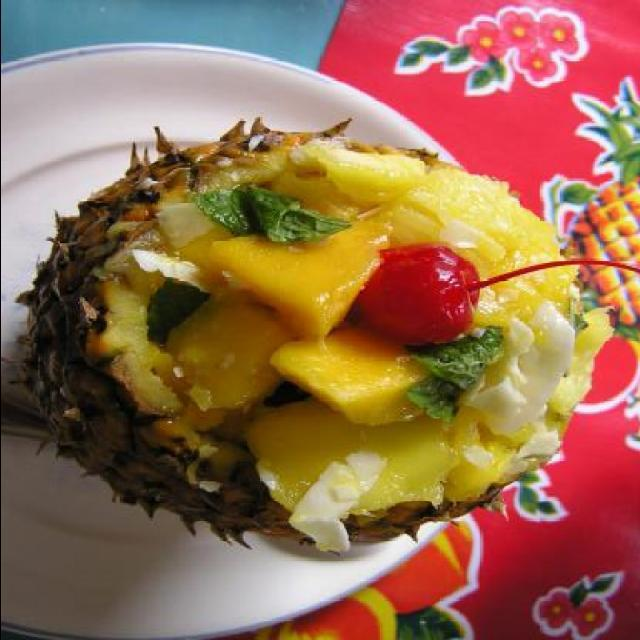Pineapple: (1, 120, 614, 552)
